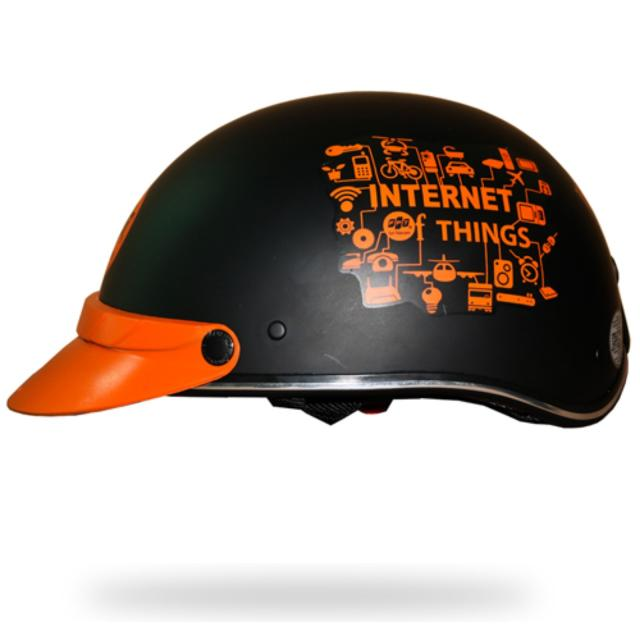Helmet: (6, 88, 632, 432)
